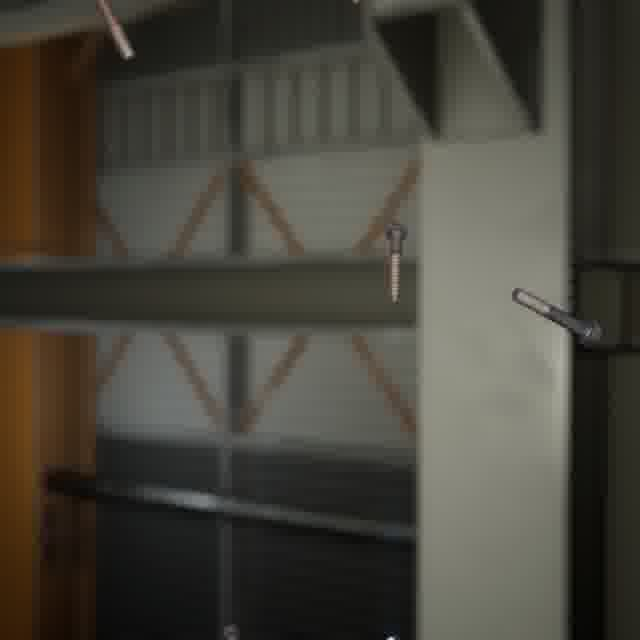bolt: (507, 283, 606, 351), (89, 0, 140, 66), (381, 218, 411, 307)
